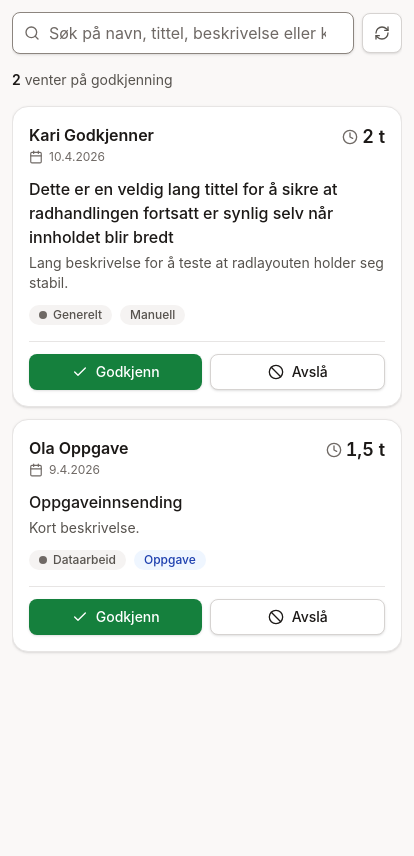
Test case: WorkApprovalList › removes a row another manager already processed and says so
The image size is (414, 856).
Step 1. Click the button with aria-label "godkjenn oppgaveinnsending" → (116, 617), box [29,599,202,635]
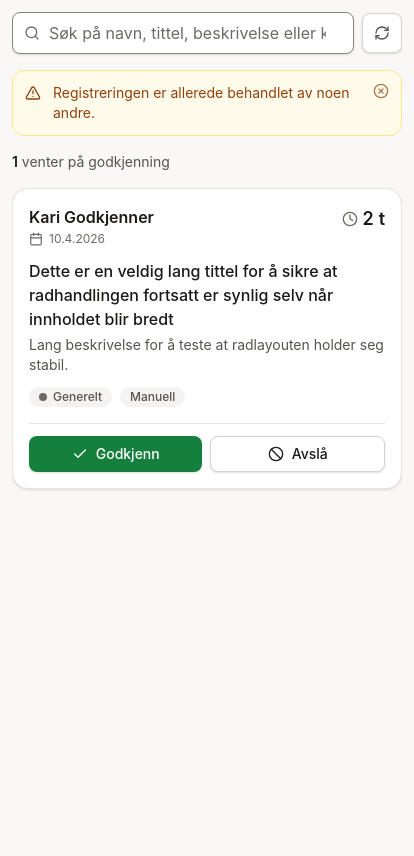
Result: the text "Registreringen er allerede behandlet av noen andre." is shown at [53,83,361,123]
Result: the text "Ola Oppgave" is gone
